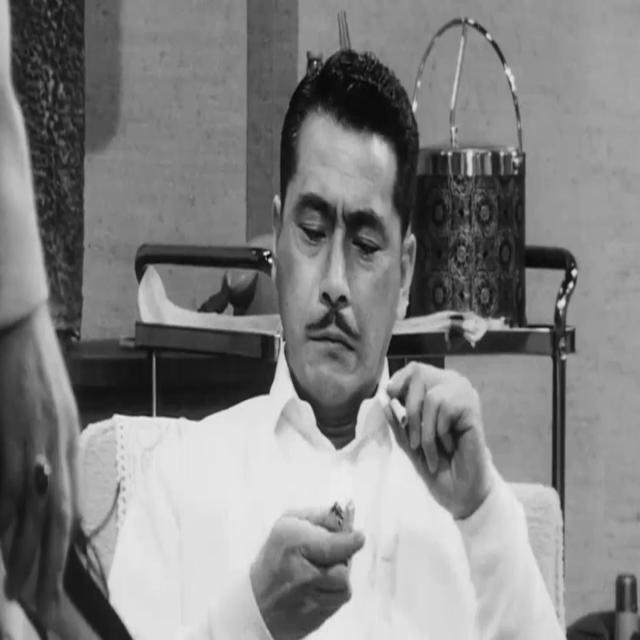Smooking: (388, 387, 410, 433)
